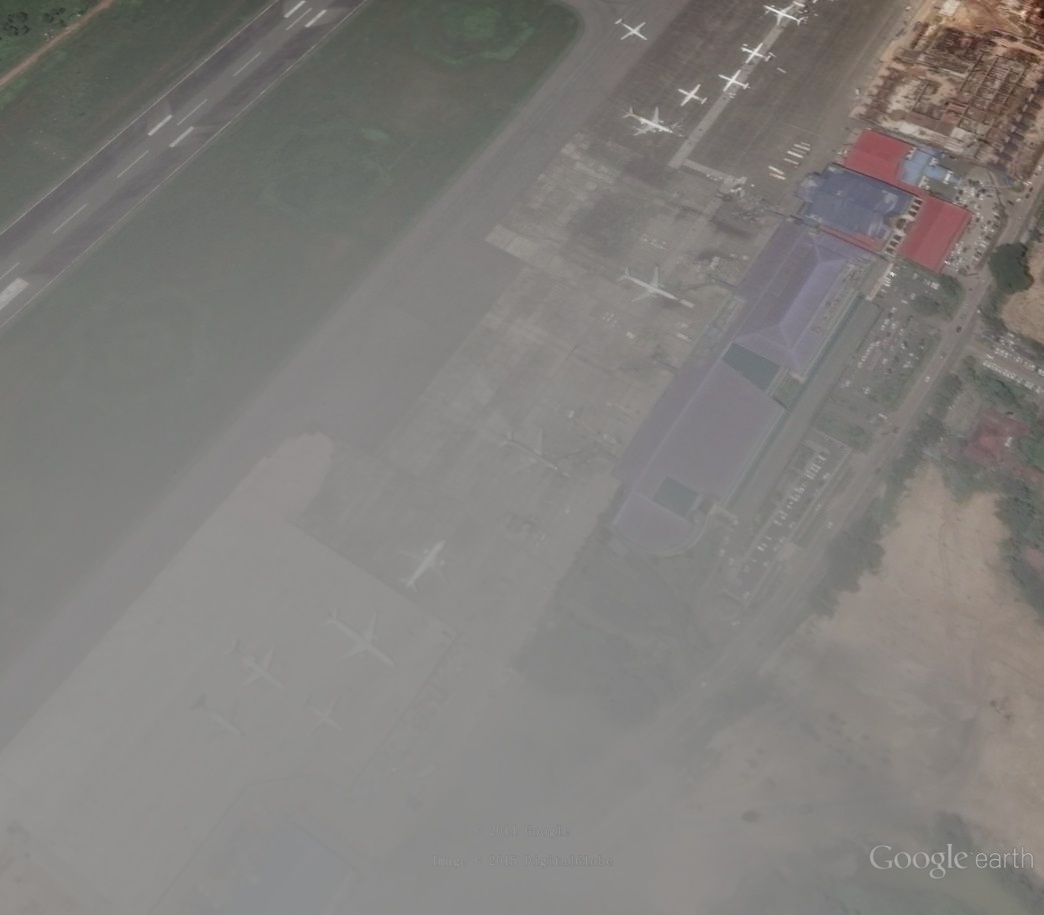aircraft: (312, 604, 402, 671), (494, 427, 579, 485), (221, 635, 291, 693), (391, 536, 454, 600), (186, 689, 250, 748), (615, 263, 683, 307), (294, 690, 350, 742), (621, 105, 678, 140), (613, 15, 649, 48), (716, 68, 753, 97), (767, 5, 807, 31), (674, 83, 711, 111), (740, 41, 771, 66), (760, 3, 780, 15)
